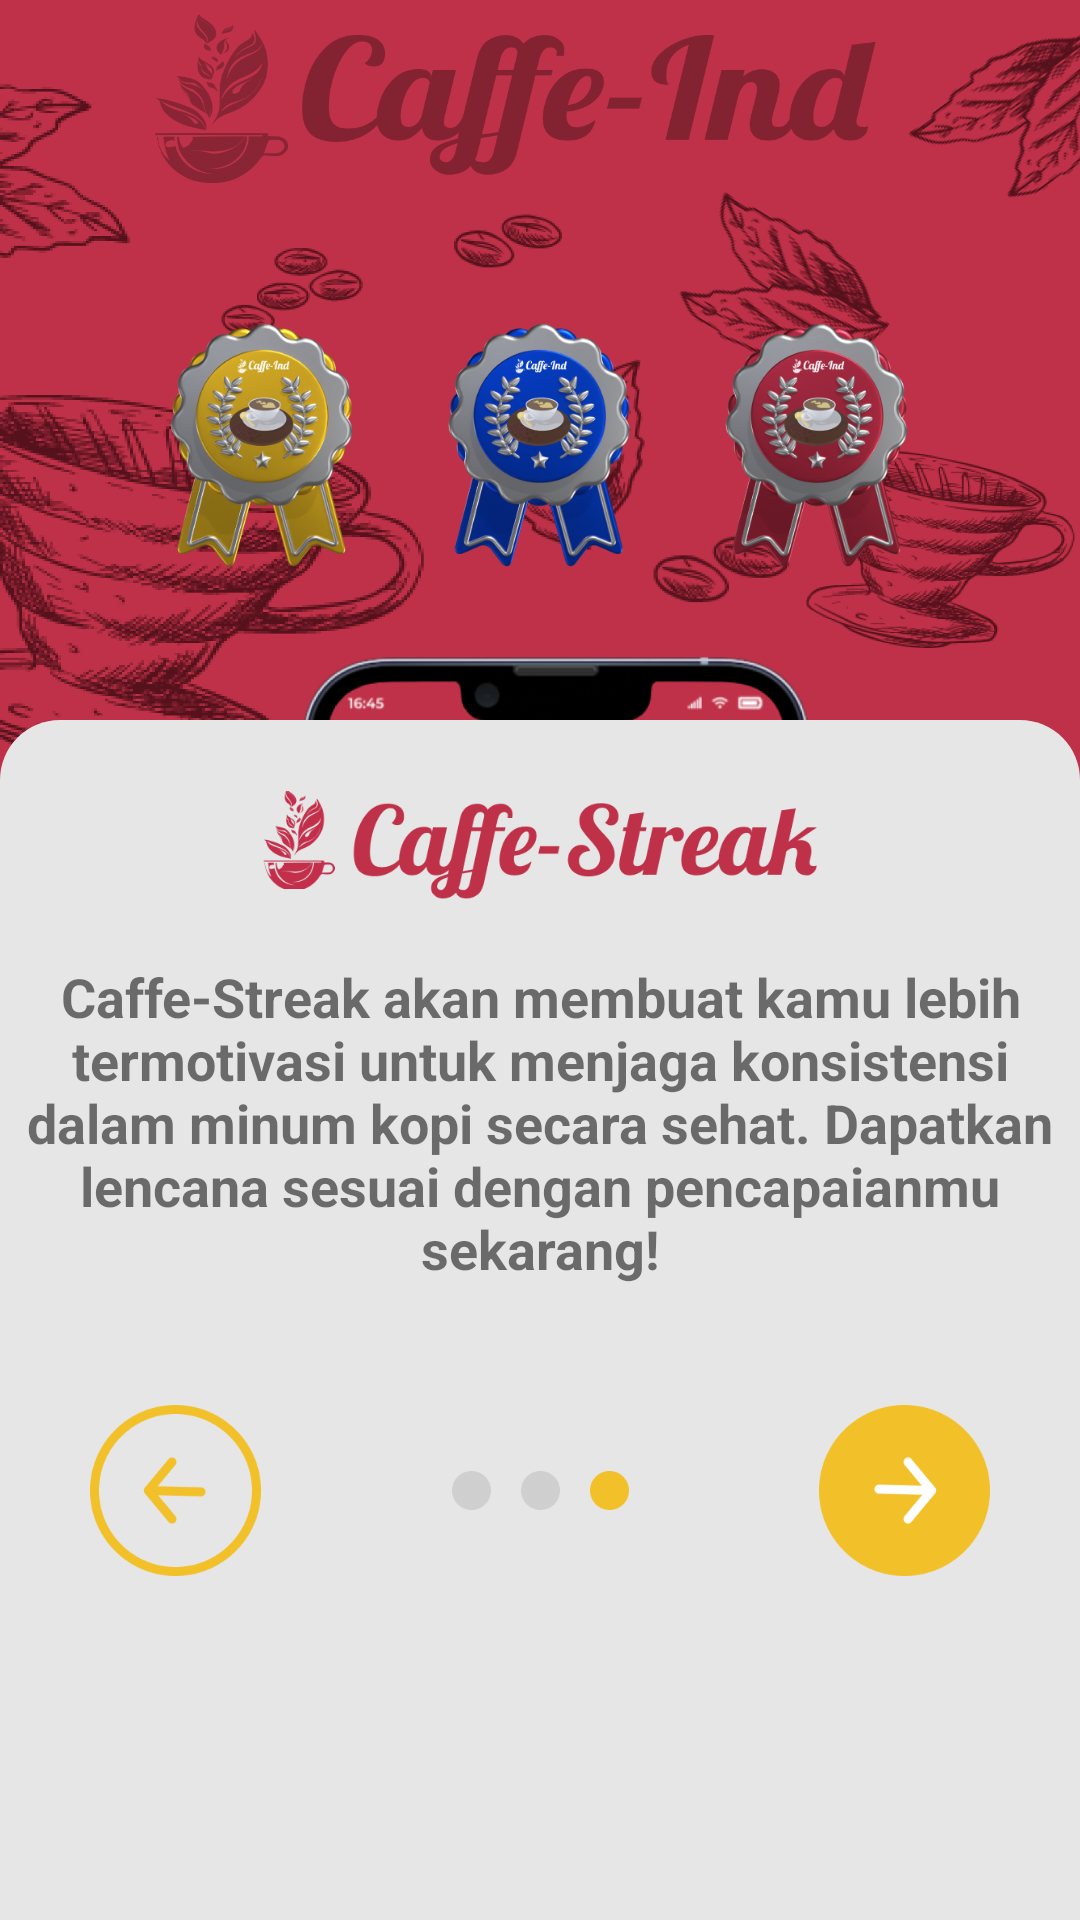

Icons on this 1080px x 1920px Android screen, each with its box as (x1, y1, x2, y2):
btnnextinfo: (819, 1405, 990, 1576)
btnprevinfo: (90, 1405, 261, 1576)
bulletyellow: (590, 1471, 629, 1510)
